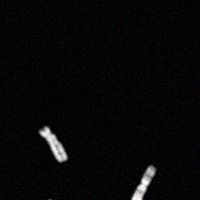chromosome: (39, 125, 67, 163), (131, 166, 156, 200), (37, 198, 53, 200)
